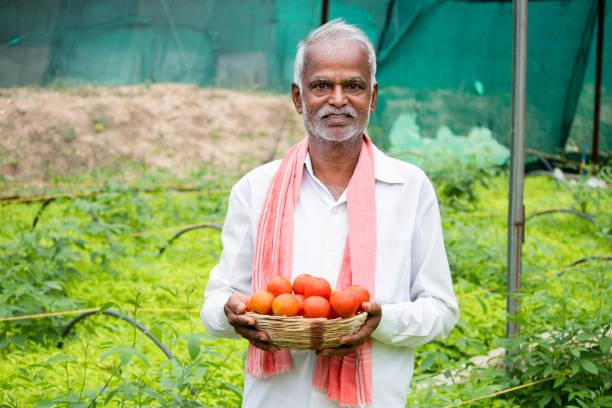Human: (232, 17, 447, 408)
